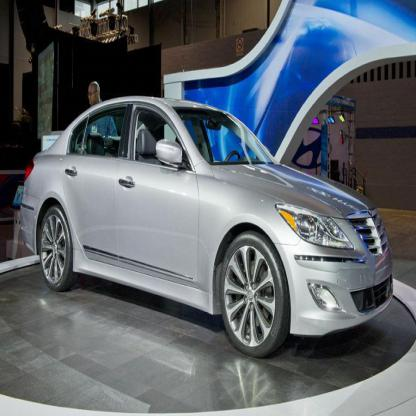car: (22, 96, 393, 360)
